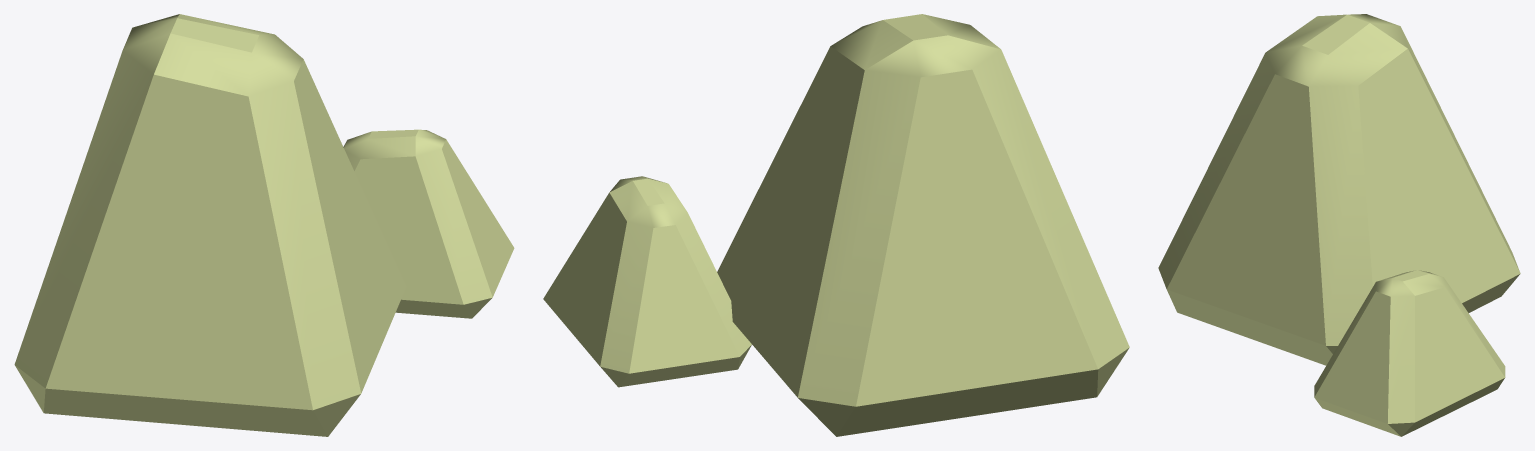
The model's file is Bush2.fbx.
The picture shows the model from 3 angles, left to right: view 1: azimuth 30°, elevation 25°; view 2: azimuth 150°, elevation 25°; view 3: azimuth 270°, elevation 25°; orthographic projection. The views are drawn at different scales.
Visible parts, largest first — view 1: Bush2Part1, Bush2Part2; view 2: Bush2Part1, Bush2Part2; view 3: Bush2Part1, Bush2Part2.
Part boxes in pixels (<box>): Bush2Part1: <box>14,14,406,436</box>; Bush2Part2: <box>343,129,514,318</box>; Bush2Part1: <box>717,14,1129,436</box>; Bush2Part2: <box>543,176,751,387</box>; Bush2Part1: <box>1158,14,1520,365</box>; Bush2Part2: <box>1314,270,1505,436</box>.
Bounding box in the file's own units: 1.91 × 1.2 × 1.41.
